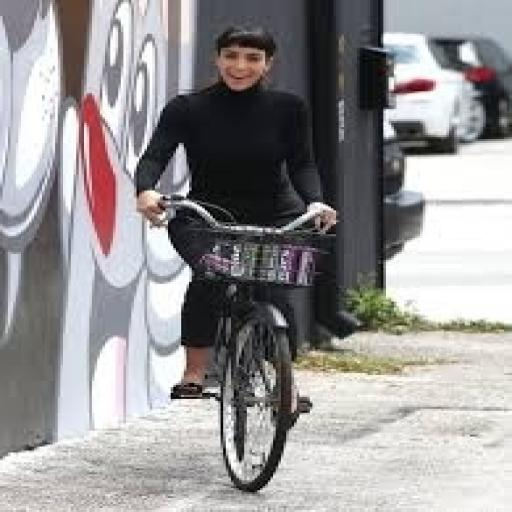cycling: (132, 24, 342, 407)
